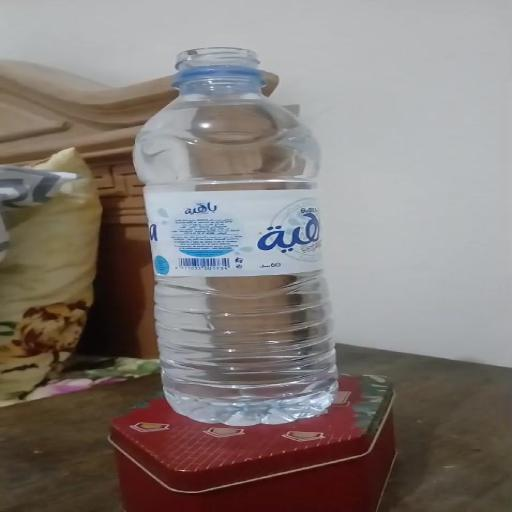bouteille non conformite: (109, 22, 369, 426), (157, 37, 285, 88)
